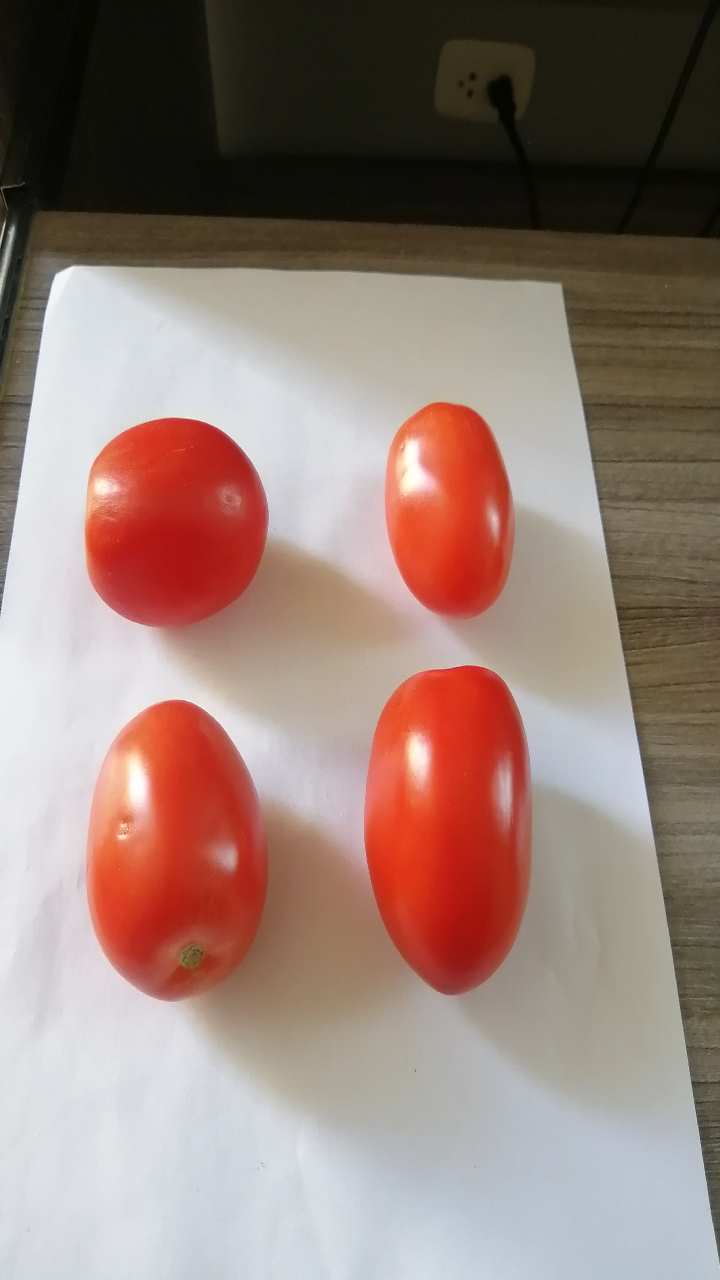tomateRojo: (341, 649, 563, 1009), (63, 682, 275, 1009), (66, 395, 295, 659), (352, 382, 532, 648)
